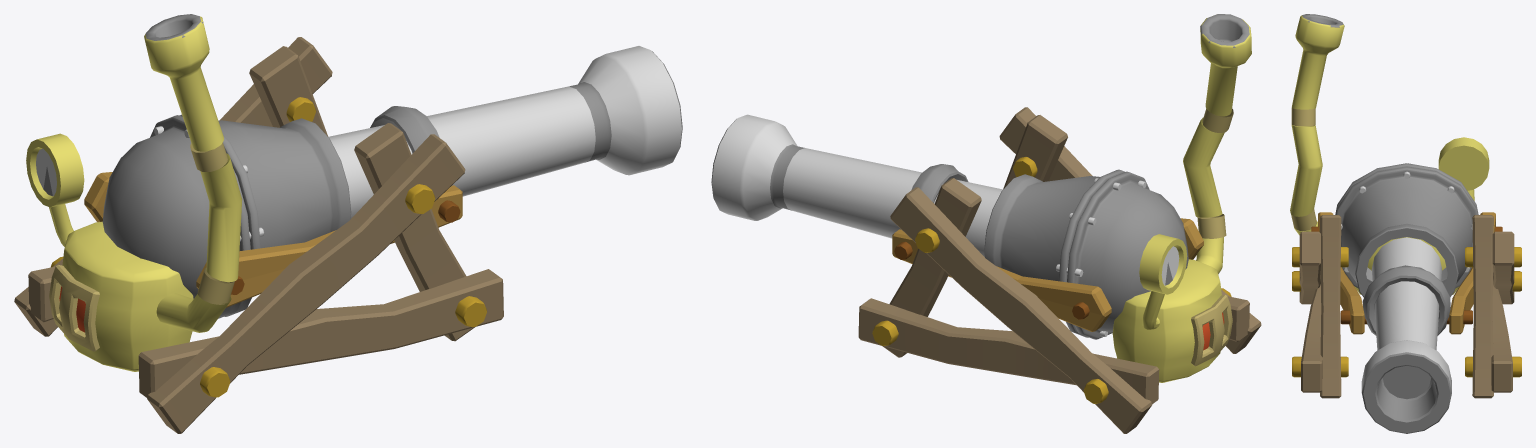
Rendered from Weapun1.fbx.
3 views of the same model, side by side, from view 1: azimuth 30°, elevation 25°; view 2: azimuth 150°, elevation 25°; view 3: azimuth 270°, elevation 25° (orthographic). The views are drawn at different scales.
Parts seen in each view (by area): view 1: Cube.004, Cylinder.002, Plane, Cube, Cube.001, Cube.003, Cube.002, Plane.002, Cylinder.003, Cube.005, Circle; view 2: Cube.004, Cylinder.002, Cube, Cube.001, Plane, Cube.003, Cube.002, Plane.002, Cylinder.003, Cube.005, Circle; view 3: Cube.004, Cylinder.002, Cube.001, Plane, Cube.002, Circle, Plane.002, Cylinder.003, Cube, Cylinder.001, Cube.003.
Part boxes in pixels (<box>): Cube.004: <box>14,37,503,433</box>; Cylinder.002: <box>328,46,682,218</box>; Plane: <box>144,14,242,332</box>; Cube: <box>102,115,250,318</box>; Cube.001: <box>180,114,351,316</box>; Cube.003: <box>59,221,193,371</box>; Cube.002: <box>84,172,462,307</box>; Plane.002: <box>26,133,84,246</box>; Cylinder.003: <box>50,97,486,397</box>; Cube.005: <box>49,265,99,351</box>; Circle: <box>370,106,439,153</box>; Cube.004: <box>858,107,1261,433</box>; Cylinder.002: <box>711,114,1002,256</box>; Cube: <box>1067,171,1188,339</box>; Cube.001: <box>984,169,1124,337</box>; Plane: <box>1183,14,1251,273</box>; Cube.003: <box>1112,259,1224,382</box>; Cube.002: <box>892,218,1203,331</box>; Plane.002: <box>1139,234,1187,329</box>; Cylinder.003: <box>872,157,1231,403</box>; Cube.005: <box>1191,294,1232,366</box>; Circle: <box>911,164,968,202</box>; Cube.004: <box>1299,215,1514,398</box>; Cylinder.002: <box>1361,237,1451,433</box>; Cube.001: <box>1336,167,1477,297</box>; Plane: <box>1290,14,1344,235</box>; Cube.002: <box>1318,212,1495,334</box>; Circle: <box>1362,265,1450,335</box>; Plane.002: <box>1438,137,1489,200</box>; Cylinder.003: <box>1292,247,1521,377</box>; Cube: <box>1335,163,1478,281</box>; Cylinder.001: <box>1311,226,1502,324</box>; Cube.003: <box>1354,237,1459,294</box>.
Bounding box in the file's own units: 648 × 422 × 303.
